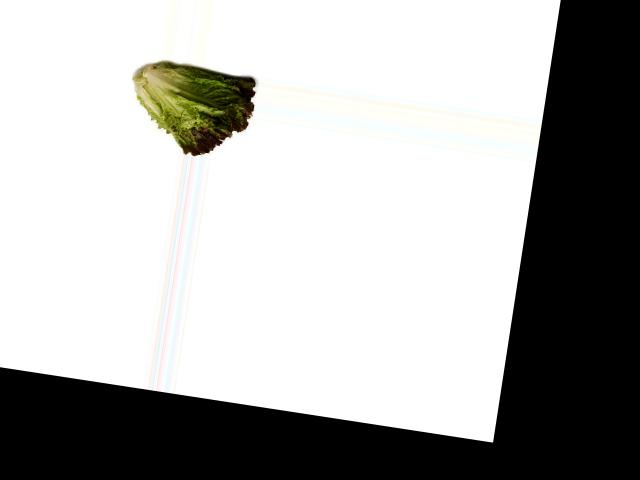lettuce: (125, 59, 260, 162)
